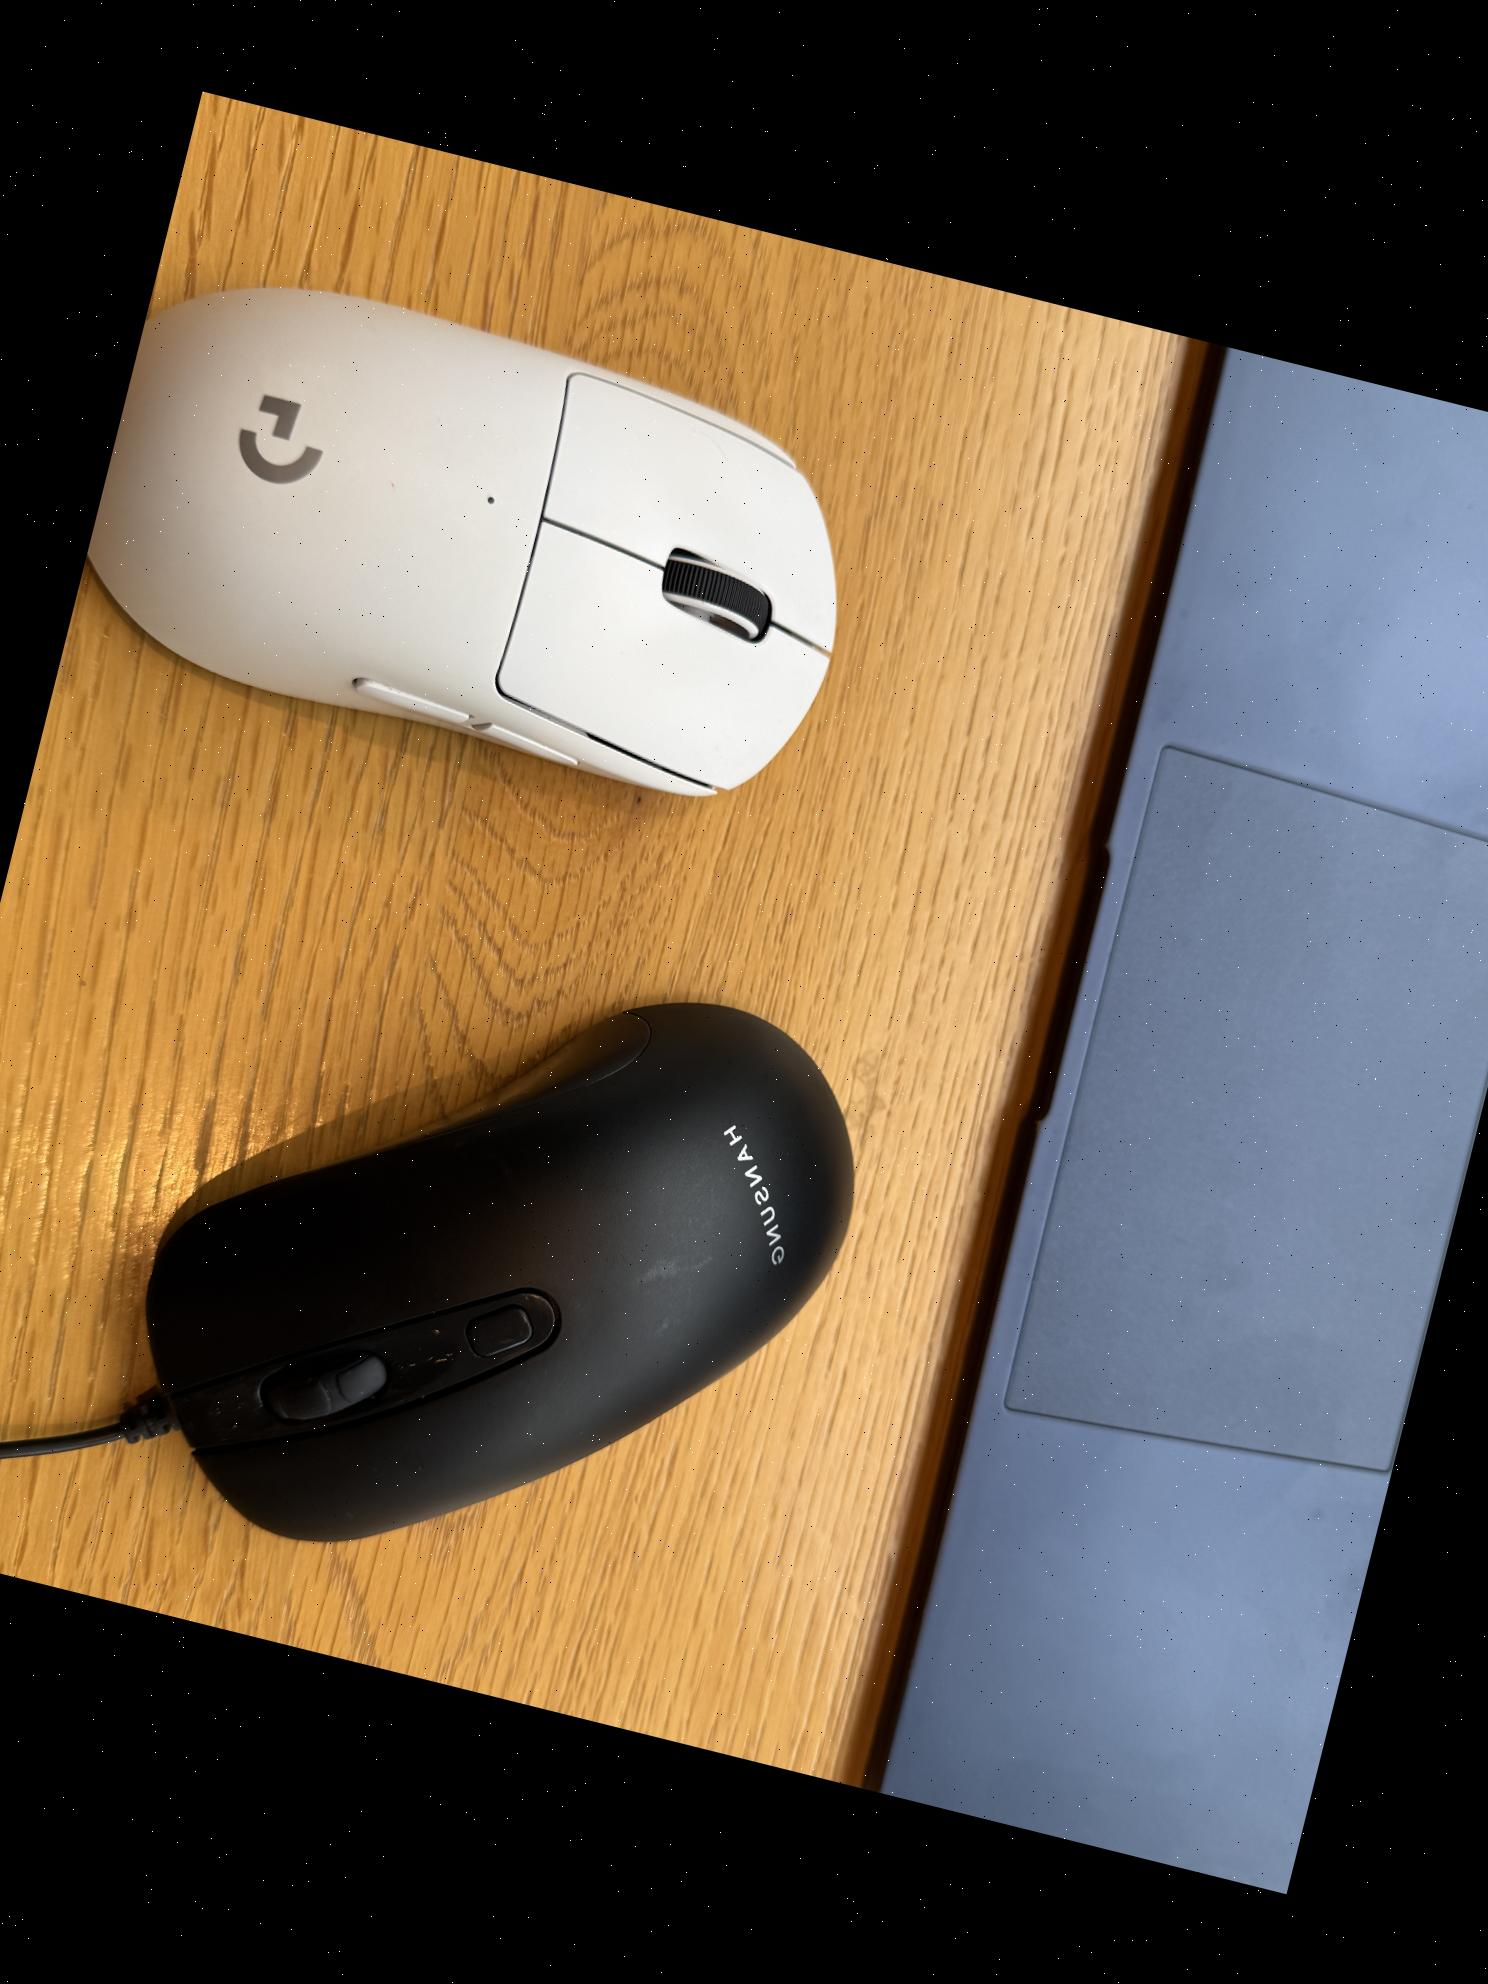front: (89, 883, 908, 1668), (63, 250, 896, 836)
